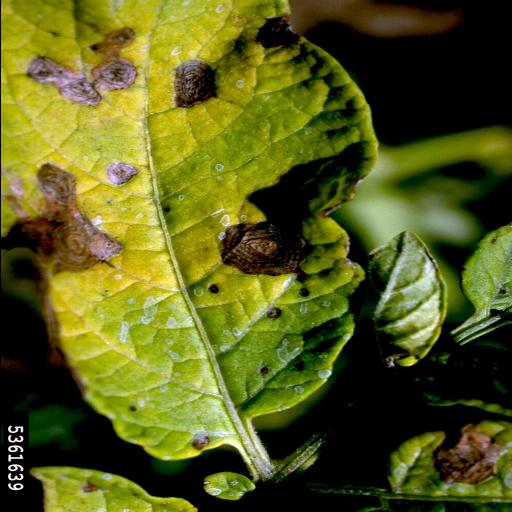Early Blight: (0, 0, 372, 464), (386, 417, 512, 512)
